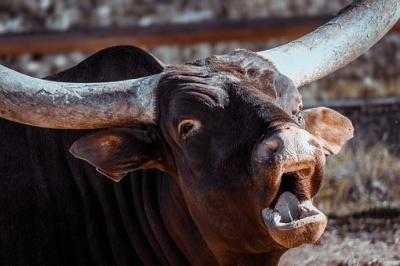buffalo: (0, 0, 398, 265)
